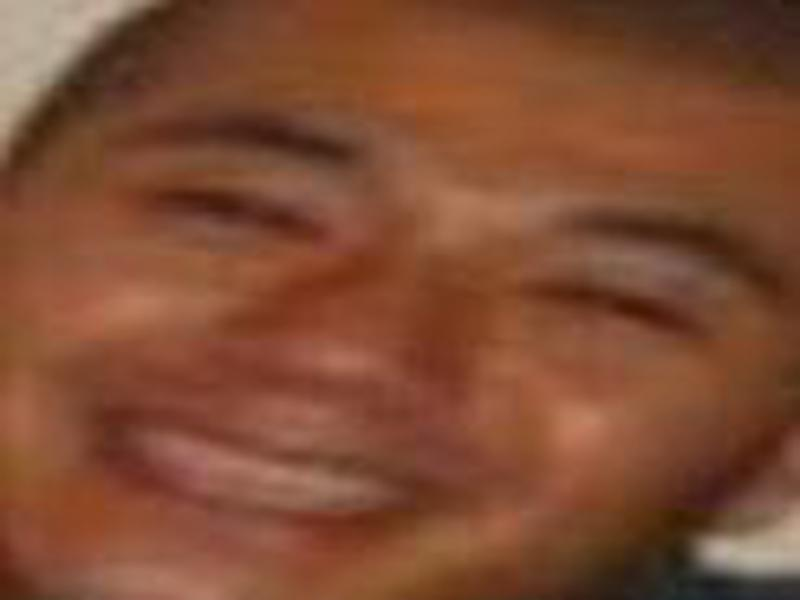without_mask: (19, 29, 793, 595)
